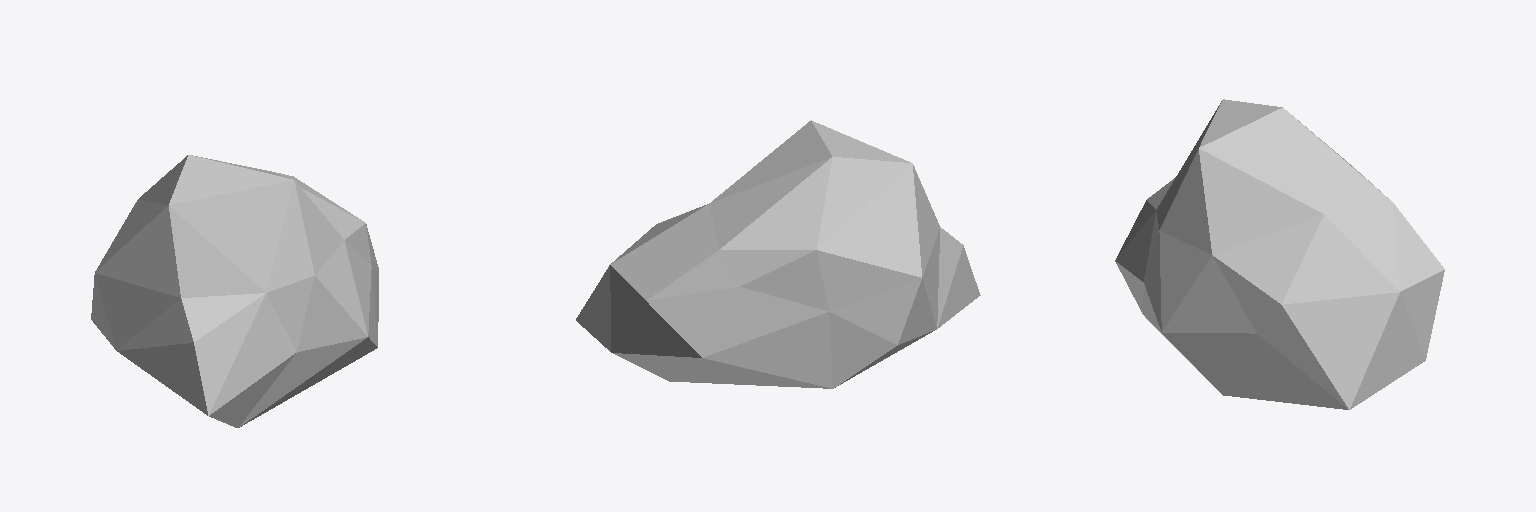
File: stone03.obj
The picture shows the model from 3 angles: view 1: azimuth 30°, elevation 25°; view 2: azimuth 150°, elevation 25°; view 3: azimuth 270°, elevation 25°; orthographic projection.
Parts seen in each view (by area): view 1: Icosphere; view 2: Icosphere; view 3: Icosphere.
Part boxes in pixels (left/top/right/bottom): Icosphere: left=91, top=155, right=378, bottom=427; Icosphere: left=576, top=120, right=980, bottom=388; Icosphere: left=1115, top=99, right=1444, bottom=409.
Bounding box in the file's own units: 0.6923 × 0.4879 × 0.6272.